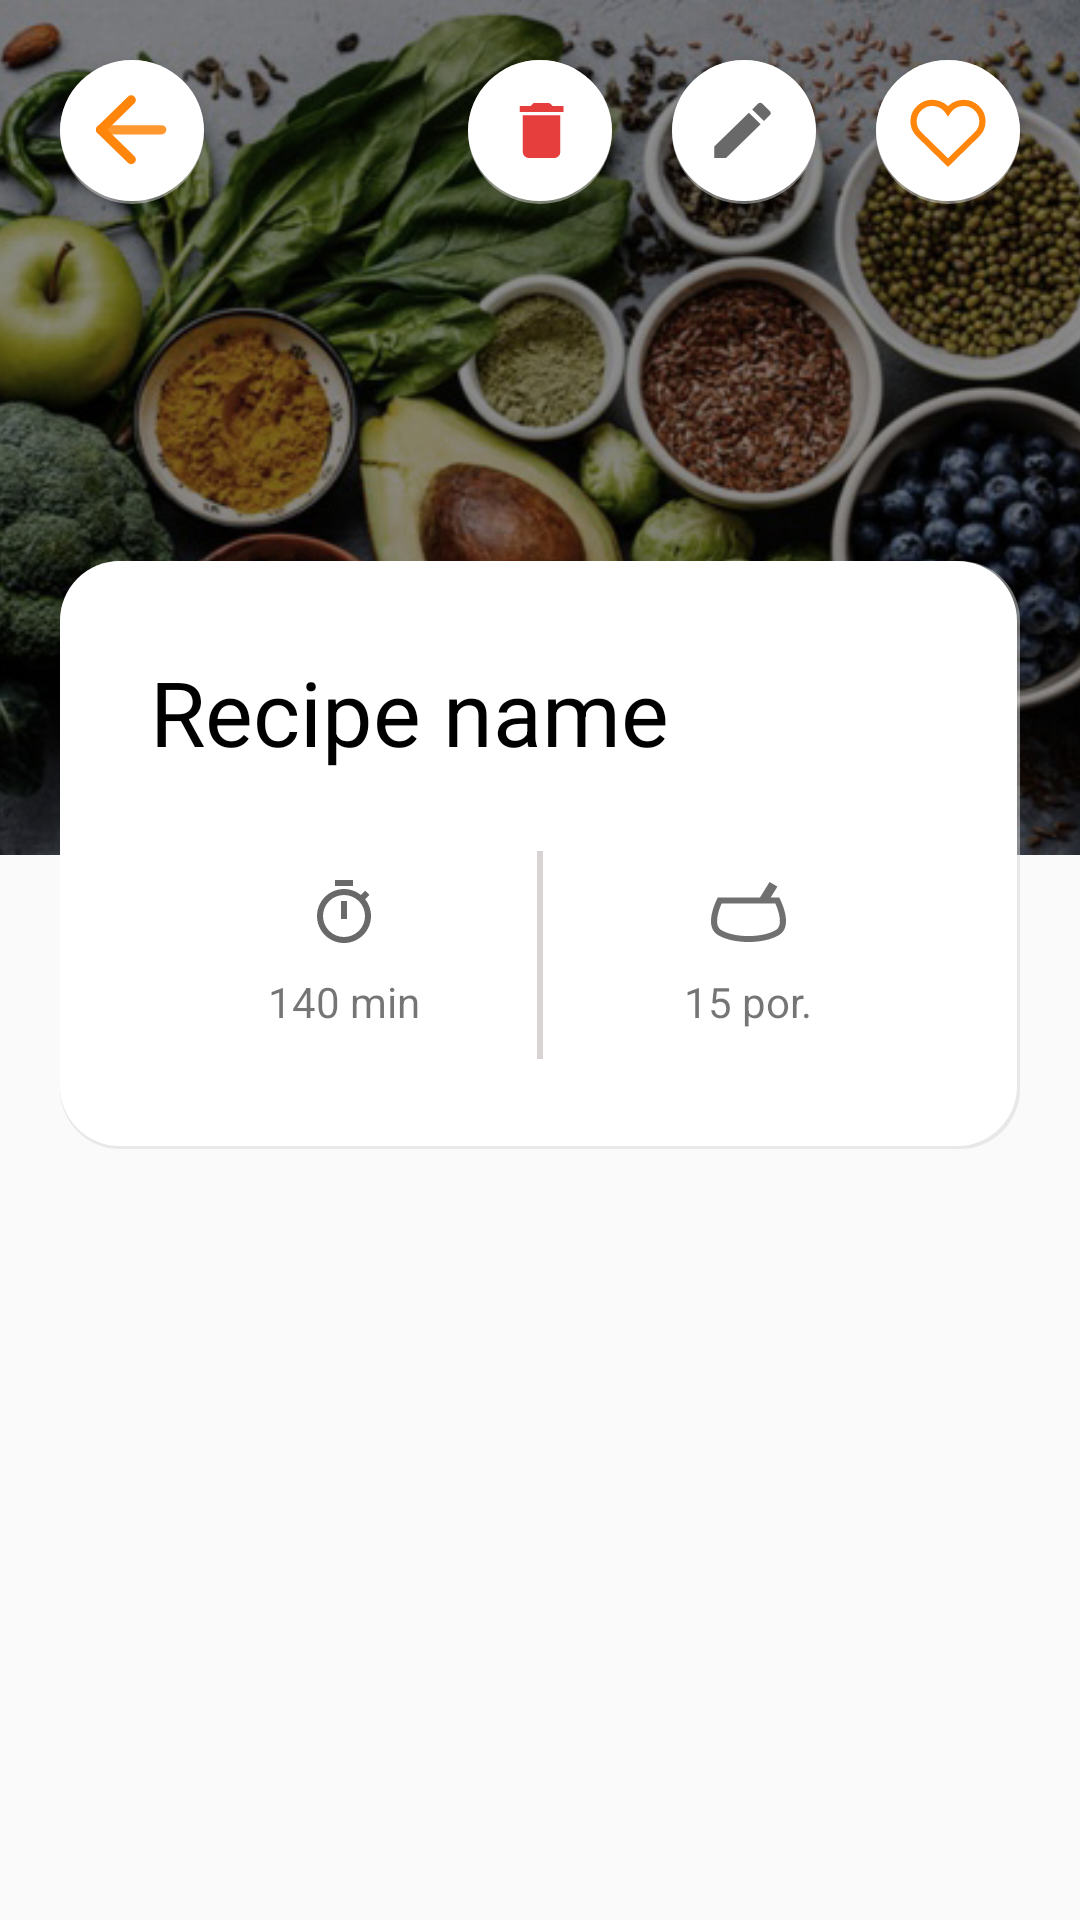

Named icons in this screenshot (1080px×1920px) and their centers, point (x, y):
back: point (132, 132)
delete: point (540, 132)
edit: point (744, 132)
favorite: point (948, 132)
portions: point (748, 912)
timer: point (344, 911)
